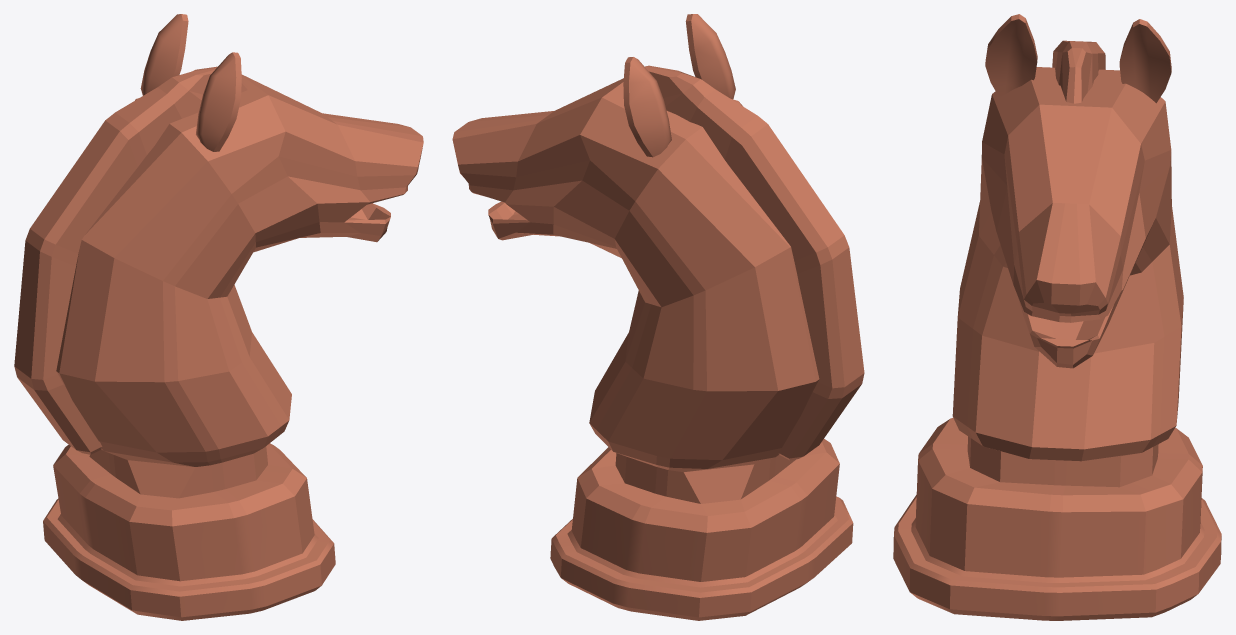
Rendered from SM_Chess-Knight.fbx.
3 renders of one model, left to right at view 1: azimuth 30°, elevation 25°; view 2: azimuth 150°, elevation 25°; view 3: azimuth 270°, elevation 25°, orthographic. The views are drawn at different scales.
Parts seen in each view (by area): view 1: pillar_1_piece_2_low, pillar_1_piece_4_low, pillar_1_piece_3_low; view 2: pillar_1_piece_2_low, pillar_1_piece_4_low, pillar_1_piece_3_low; view 3: pillar_1_piece_2_low, pillar_1_piece_3_low, pillar_1_piece_4_low.
Part boxes in pixels (x1,y1,x2,y2): pillar_1_piece_2_low: (43,74,423,620); pillar_1_piece_4_low: (14,66,247,454); pillar_1_piece_3_low: (140,14,241,151); pillar_1_piece_2_low: (452,78,853,620); pillar_1_piece_4_low: (645,65,864,460); pillar_1_piece_3_low: (623,14,735,157); pillar_1_piece_2_low: (893,67,1221,620); pillar_1_piece_3_low: (985,14,1171,103); pillar_1_piece_4_low: (1052,40,1105,103).
Bounding box in the file's own units: 8.28 × 10.42 × 5.48.
